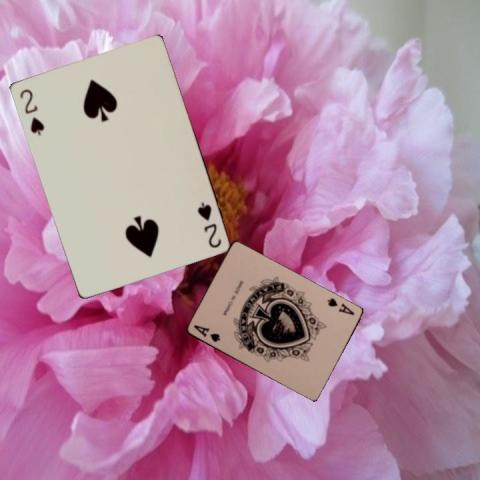2s: (17, 86, 47, 137), (195, 199, 223, 250)
As: (324, 295, 355, 317), (191, 322, 221, 344)
